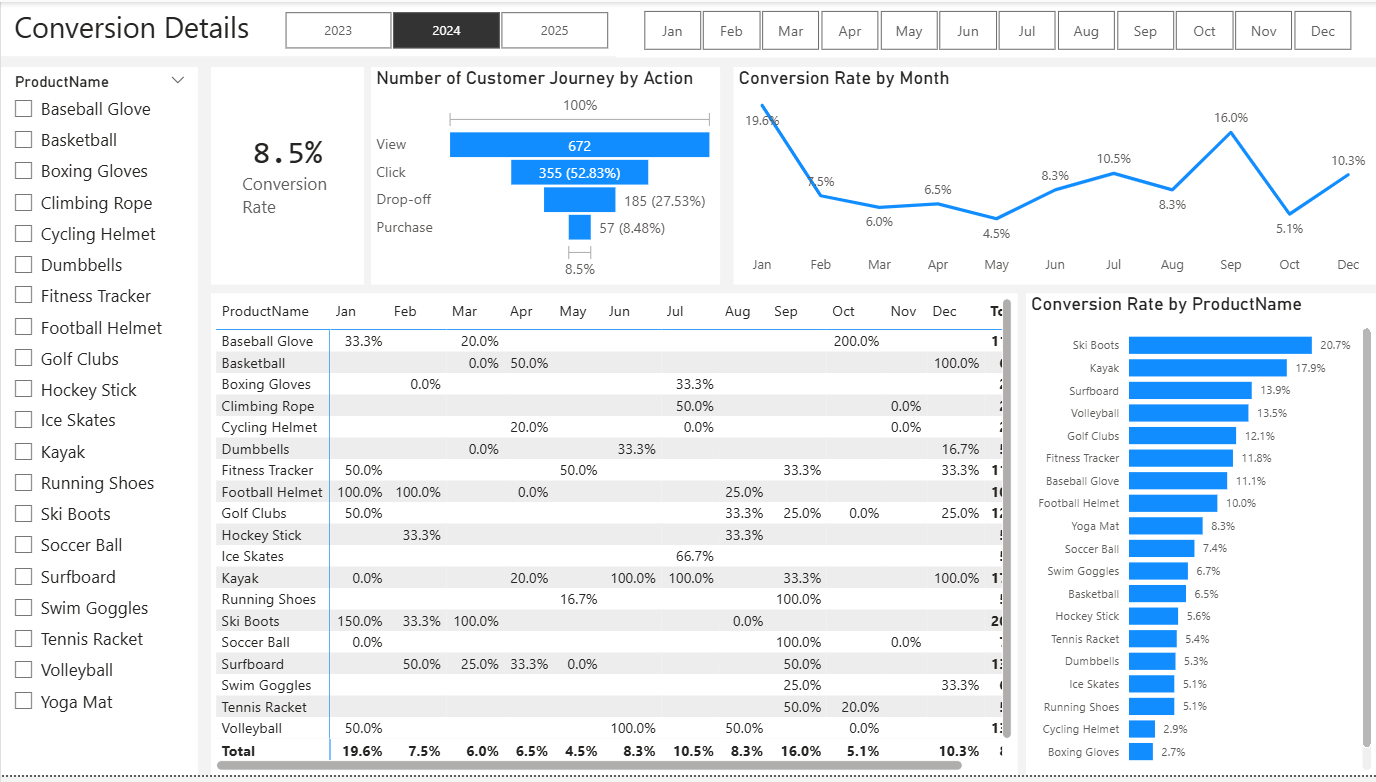

The dashboard page shown, as its layout file describes it:
{"tool":"powerbi","page":{"name":"Conversion Details","canvas":[1280,720],"ordinal":1},"visuals":[{"type":"textbox","box":[0,0,1280.3,50.1],"z":0},{"type":"slicer","fields":{"Values":["Dim_Products.ProductName"]},"box":[0,59.9,183.4,660.3],"z":1000},{"type":"slicer","fields":{"Values":["Dim_Calender.Year"]},"box":[238.8,2.5,350,47.5],"z":2000},{"type":"slicer","fields":{"Values":["Dim_Calender.MonthNameShort"]},"box":[572.3,1.2,708,50.1],"z":3000},{"type":"funnel","fields":{"Y":["Measures (2).Number_of_Customer_Journey"],"Category":["Fact_customerjourney.Action"]},"box":[343.8,60,325,202.5],"z":4000},{"type":"cardVisual","fields":{"Data":["Measures (2).Conversion_rate"]},"box":[195,60,142.5,202.5],"z":5000},{"type":"clusteredBarChart","fields":{"Category":["Dim_Products.ProductName"],"Y":["Measures (2).Conversion_rate"]},"box":[953.8,271.2,326.2,448.8],"z":6000},{"type":"pivotTable","fields":{"Values":["Measures (2).Conversion_rate"],"Rows":["Dim_Products.ProductName"],"Columns":["Dim_Calender.MonthNameShort"]},"box":[195,271.2,750,448.8],"z":7000},{"type":"lineChart","fields":{"Y":["Measures (2).Conversion_rate"],"Category":["Dim_Calender.MonthNameShort"]},"box":[681.2,60,598.8,202.5],"z":8000}]}

Visuals, with their boxes in screenshot pixels (x1, y1, x2, y2), scaled from the page's 1280x720 canvas onto the 1376x782 screenshot:
textbox: [x1=0, y1=0, x2=1375, y2=54]
slicer - Dim_Products.ProductName: [x1=0, y1=65, x2=197, y2=781]
slicer - Dim_Calender.Year: [x1=257, y1=3, x2=633, y2=54]
slicer - Dim_Calender.MonthNameShort: [x1=615, y1=1, x2=1375, y2=56]
funnel - Measures (2).Number_of_Customer_Journey x Fact_customerjourney.Action: [x1=370, y1=65, x2=719, y2=285]
cardVisual - Measures (2).Conversion_rate: [x1=210, y1=65, x2=363, y2=285]
clusteredBarChart - Dim_Products.ProductName x Measures (2).Conversion_rate: [x1=1025, y1=295, x2=1375, y2=781]
pivotTable - Measures (2).Conversion_rate x Dim_Products.ProductName: [x1=210, y1=295, x2=1016, y2=781]
lineChart - Measures (2).Conversion_rate x Dim_Calender.MonthNameShort: [x1=732, y1=65, x2=1375, y2=285]
